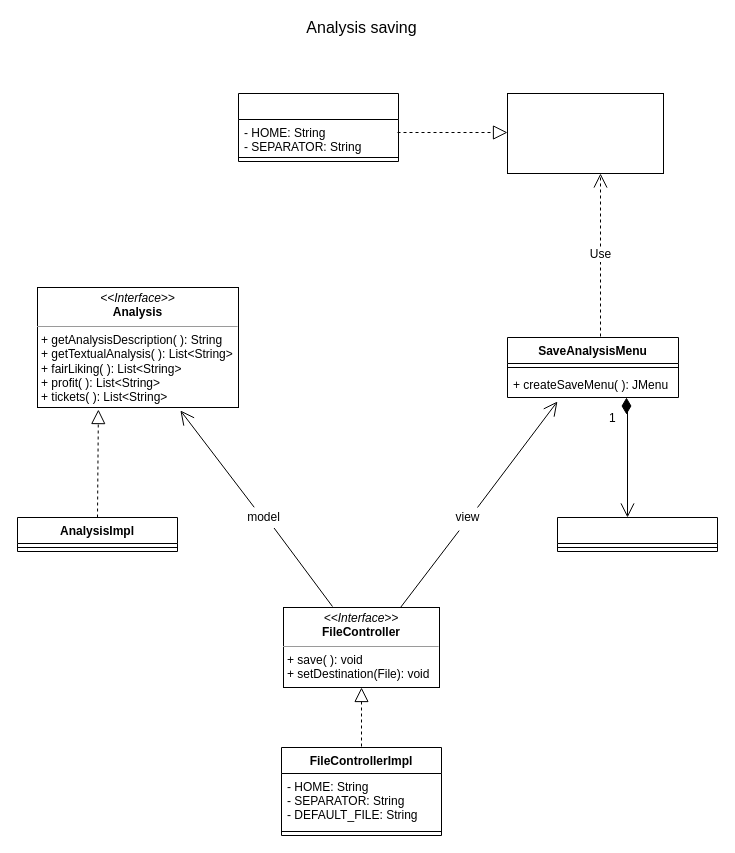
The diagram is 735 pixels wide and 853 high, and some of its shapes have lost their labels. The box of each missing label's shape, as (x1, y1, x2, y2) in pixels:
<<Interface>> ChartImg + profitChartImg( ): File + fairChartImg( ): File: (506, 92, 664, 174)
AnalysisDialog: (556, 516, 718, 552)
ChartImgBuilder: (238, 92, 398, 162)
